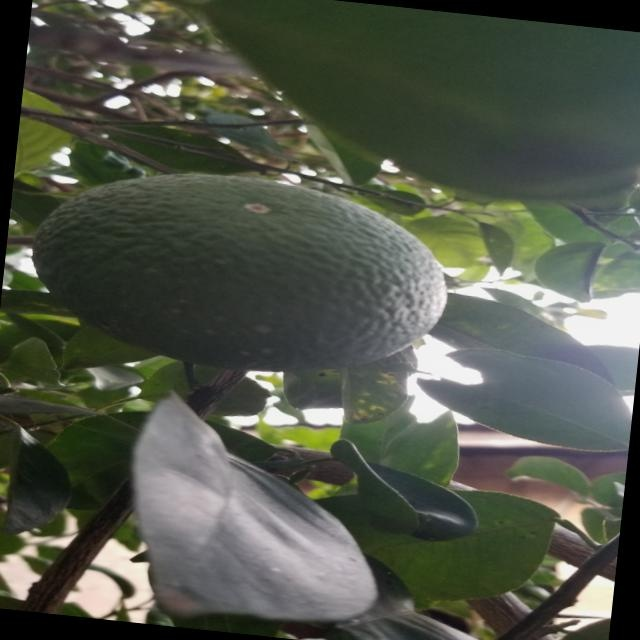agrume: (11, 154, 470, 398)
